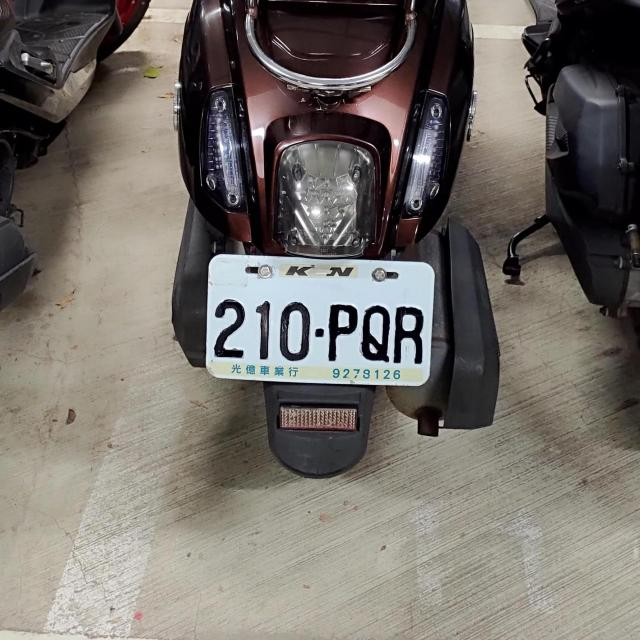W: (206, 250, 437, 389)
